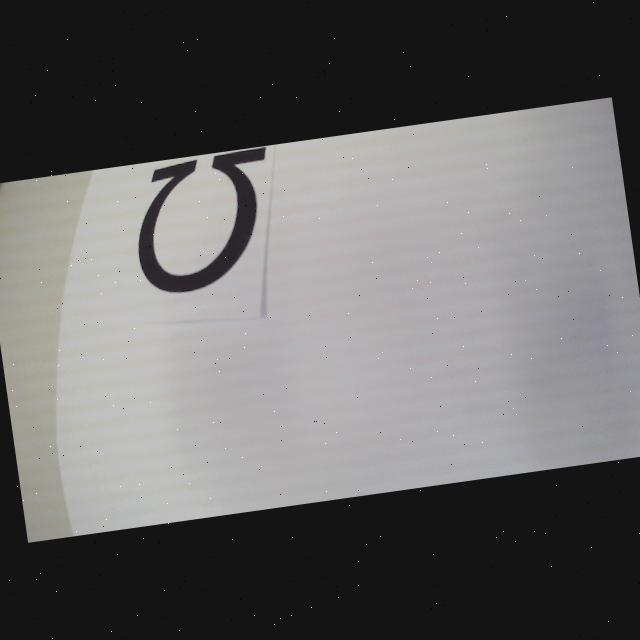OMEGA: (126, 146, 284, 298)
